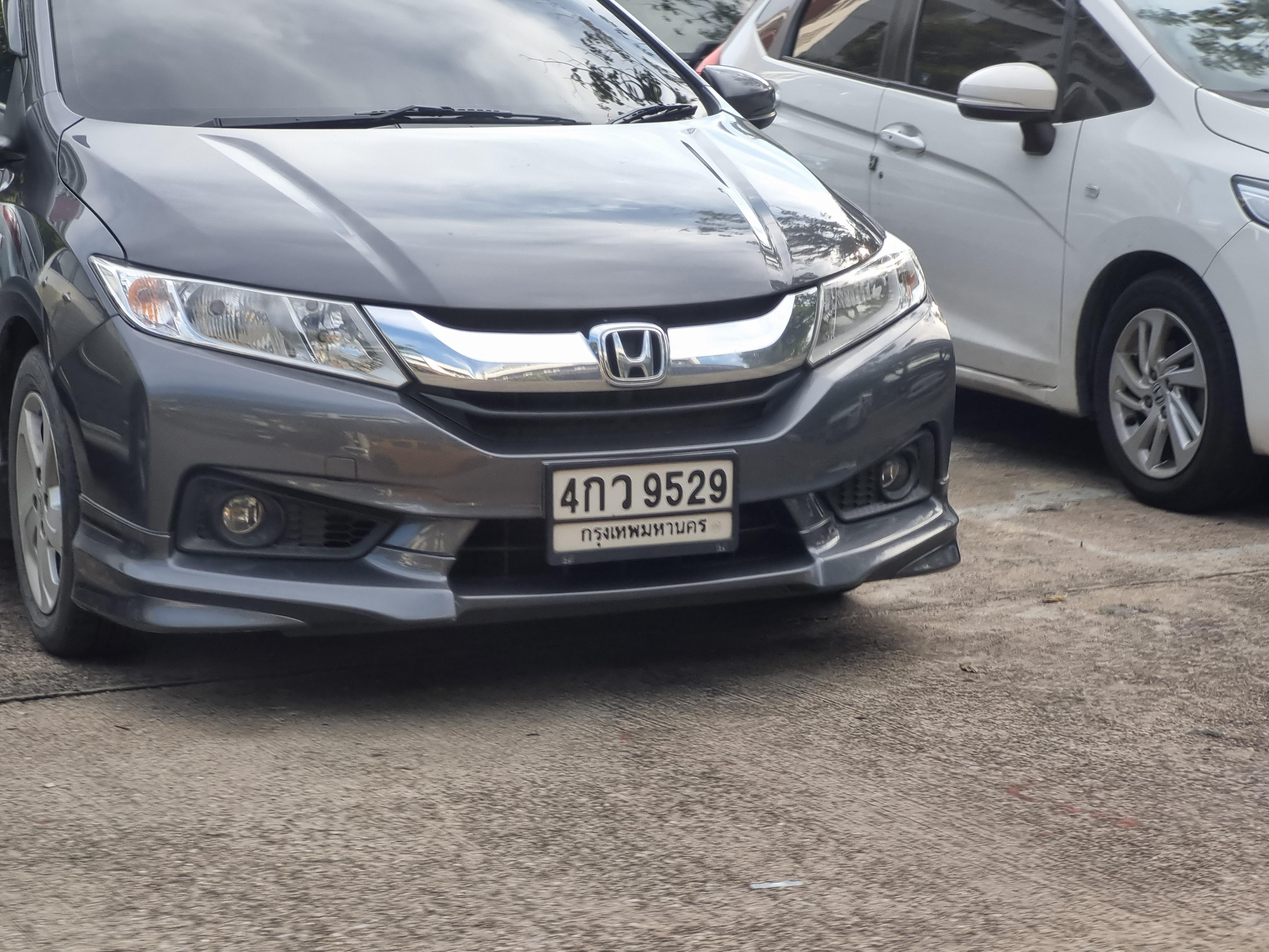license-plate: (536, 446, 745, 571)
